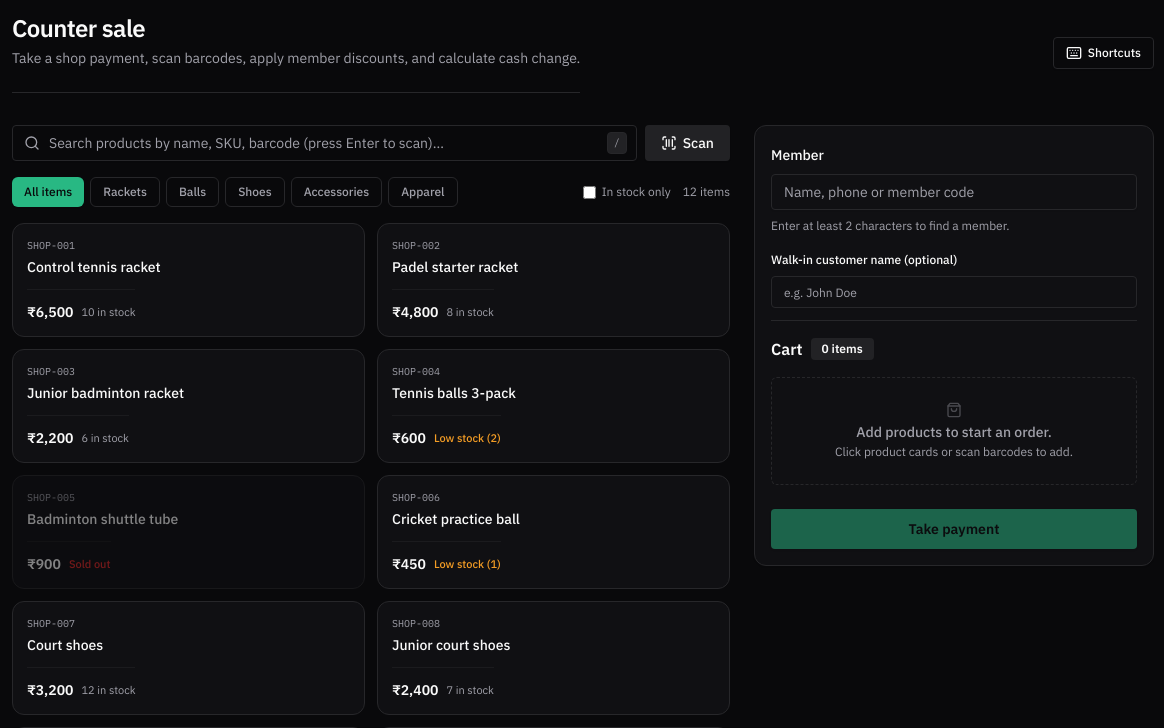
Test: Counter sale POS (Issue #71) › scans barcode or exact SKU on Enter and adds to cart
Type "SHOP-001" into the field labelled "Search products" at (324, 143), box left=12, top=125, right=637, bottom=161
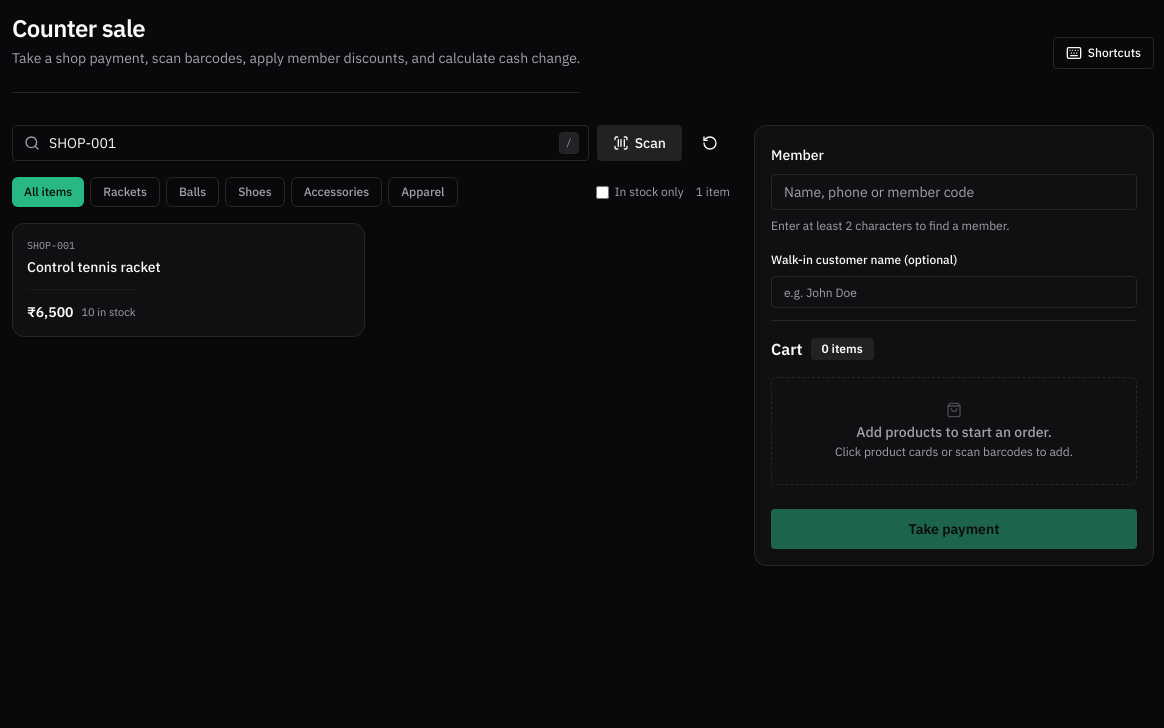
Submit the form named "Search products", box left=12, top=125, right=730, bottom=161
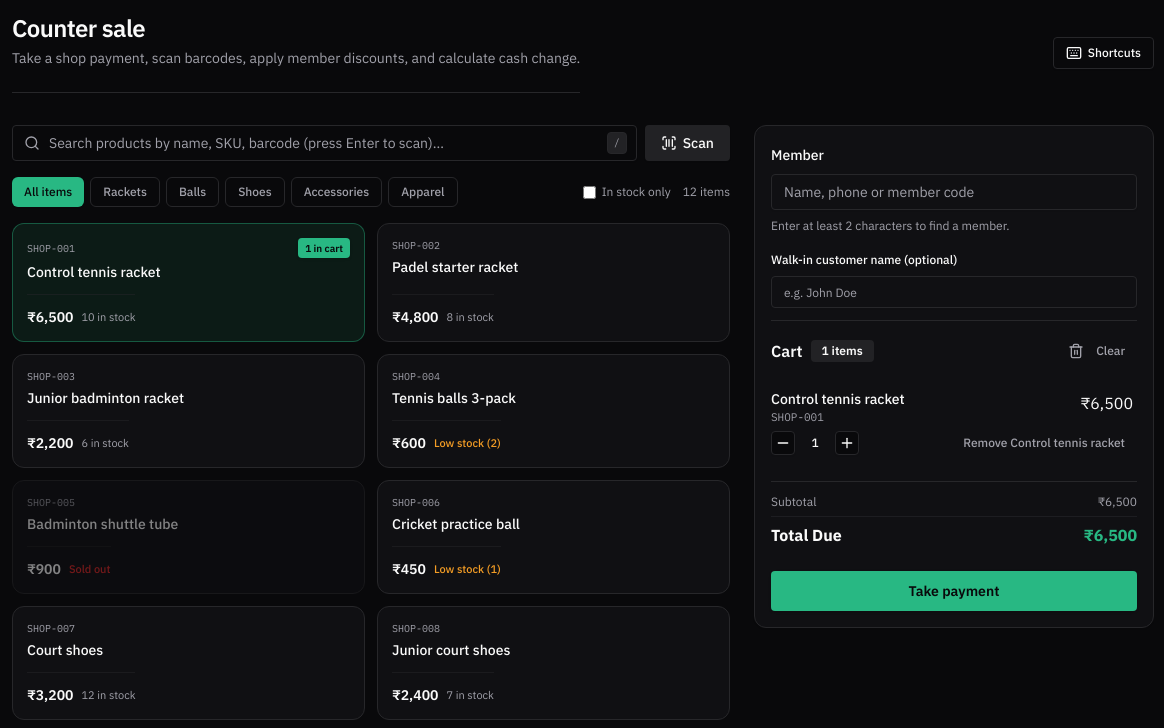
Check: the text named "Quantity for Control tennis racket" reads "1", box left=811, top=435, right=819, bottom=450
Check: the field labelled "Search products" is empty, box left=12, top=125, right=637, bottom=161
